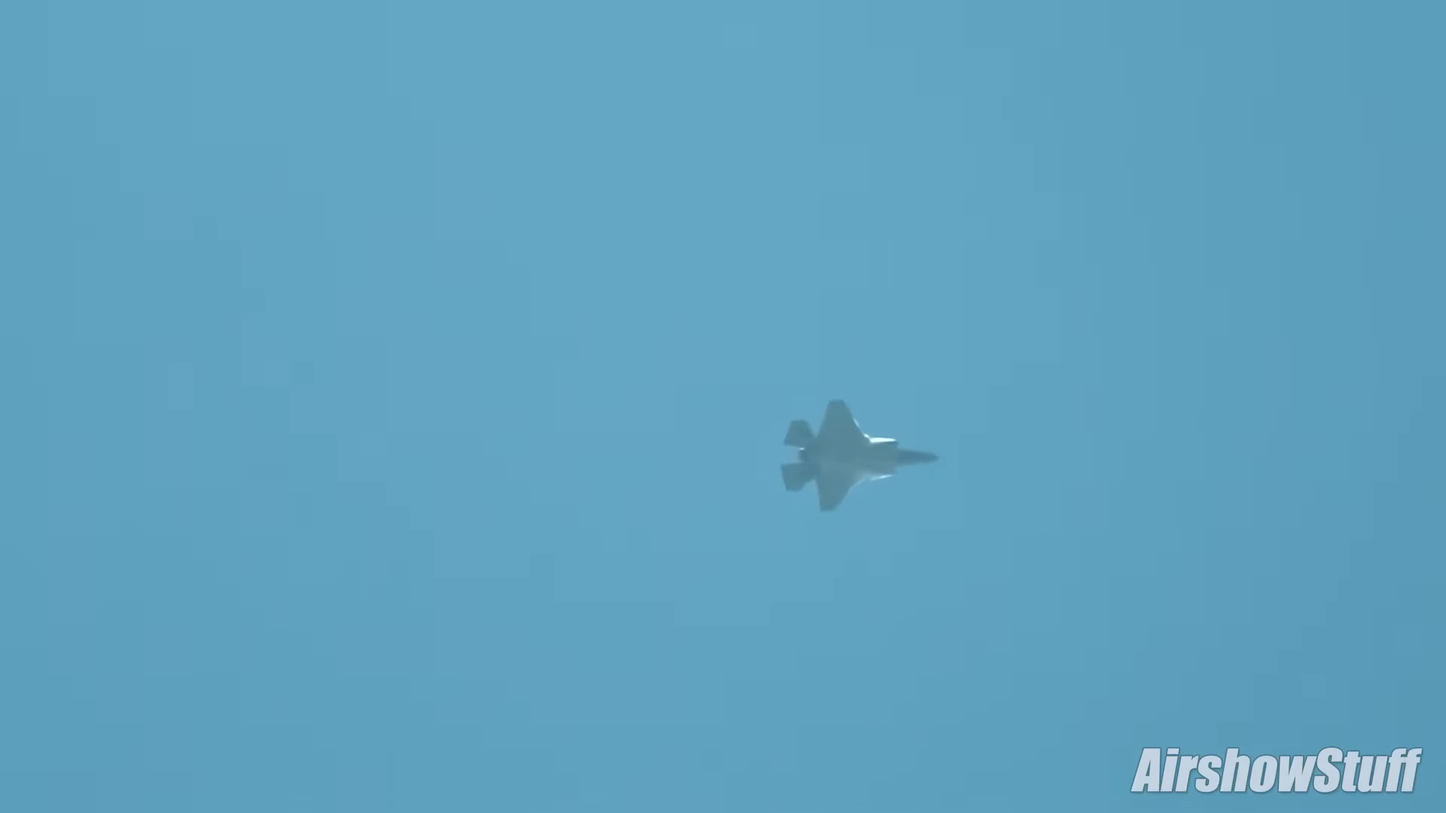F35: (776, 393, 944, 515)
